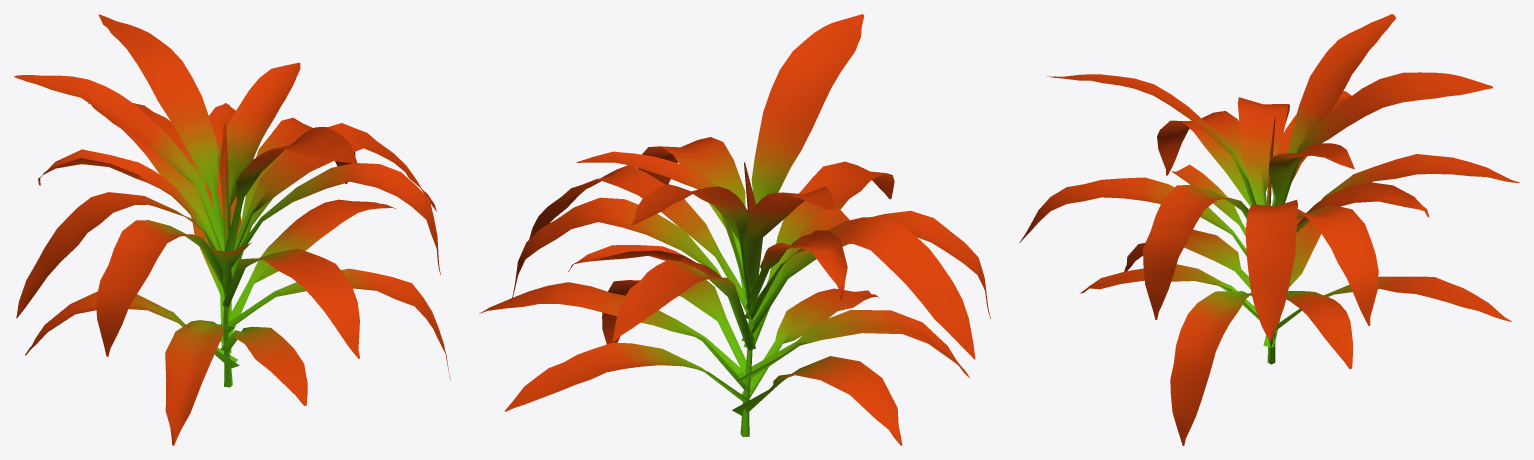
File: Pink Cordyline_LOD0_Var7_sfhhN.fbx
3 renders of one model, left to right at view 1: azimuth 30°, elevation 25°; view 2: azimuth 150°, elevation 25°; view 3: azimuth 270°, elevation 25°, orthographic. The views are drawn at different scales.
Parts seen in each view (by area): view 1: _20a7_Var7_LOD0; view 2: _20a7_Var7_LOD0; view 3: _20a7_Var7_LOD0.
Boxes of the visible parts, bbox=[...] form: _20a7_Var7_LOD0: bbox=[14, 14, 450, 445]; _20a7_Var7_LOD0: bbox=[479, 14, 990, 445]; _20a7_Var7_LOD0: bbox=[1019, 14, 1519, 445].
Bounding box in the file's own units: 64.39 × 45.58 × 70.05.
